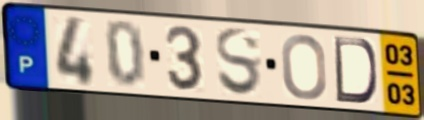0: (103, 18, 147, 90)
3: (164, 23, 208, 94)
4: (53, 13, 98, 89)
D: (332, 34, 380, 106)
O: (278, 32, 329, 102)
S: (213, 25, 264, 100)
